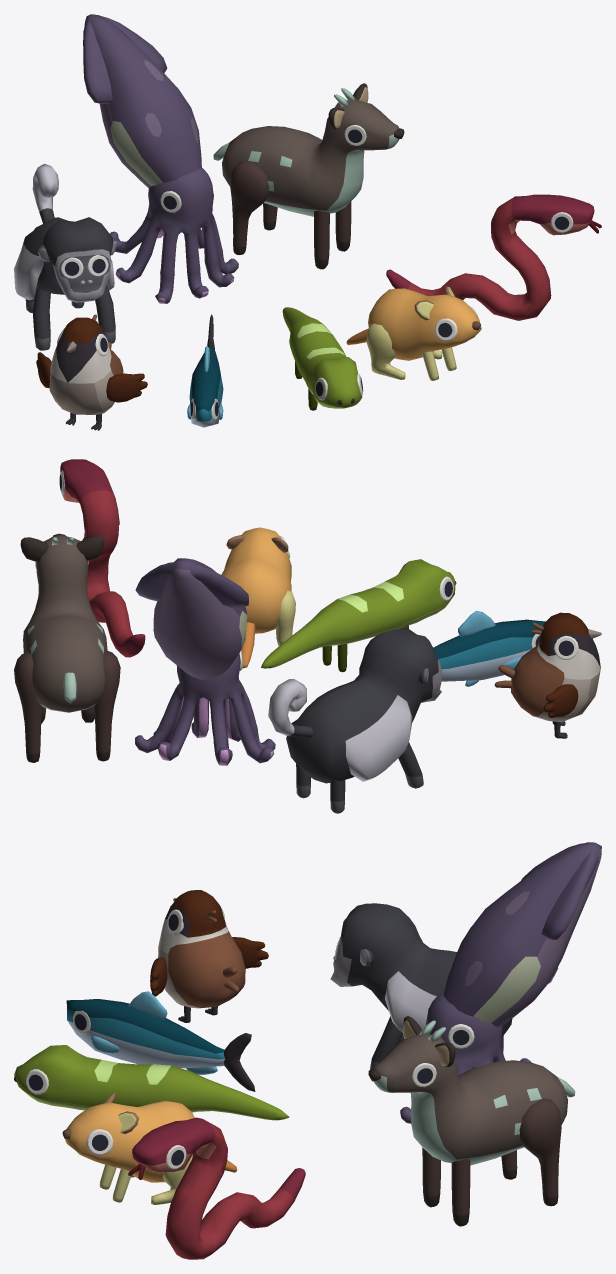
The model's file is animals.glb.
3 views of the same model, one above another, from view 1: azimuth 30°, elevation 25°; view 2: azimuth 150°, elevation 25°; view 3: azimuth 270°, elevation 25° (orthographic). The views are drawn at different scales.
Parts seen in each view (by area): view 1: Taipan_LOD1; view 2: Taipan_LOD1; view 3: Taipan_LOD1.
Boxes of the visible parts, bbox=[...] form: Taipan_LOD1: bbox=[14, 14, 601, 430]; Taipan_LOD1: bbox=[14, 459, 601, 813]; Taipan_LOD1: bbox=[14, 842, 601, 1259].
Size of the model in its own units: 341 by 150 by 290.
Materials: 8 (8 with a texture image).
